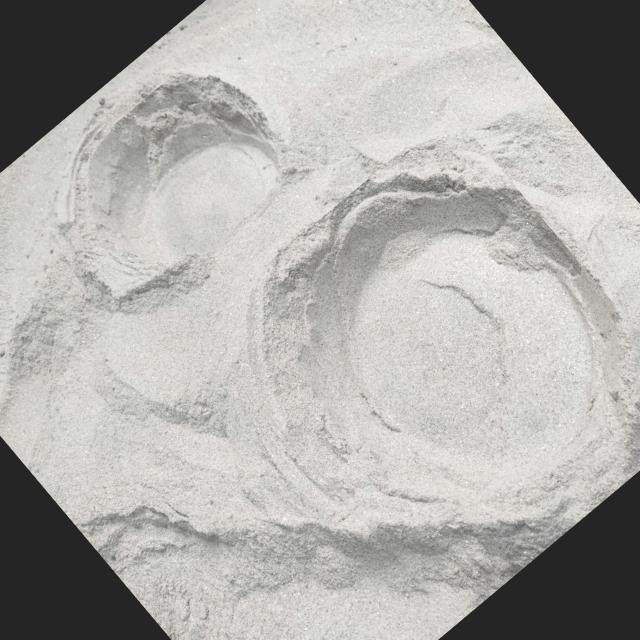C20: (260, 179, 619, 523), (73, 82, 279, 288)
